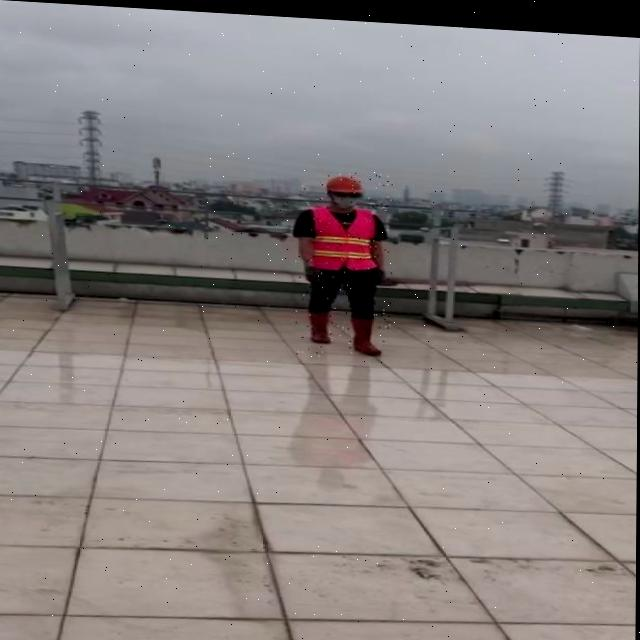Gloves: (304, 260, 324, 281), (374, 263, 385, 280)
Helmet: (325, 169, 364, 190)
No-Glove: (292, 165, 390, 351)
Safety-Boot: (351, 312, 382, 351), (308, 305, 332, 339)
Safety-Vest: (305, 200, 379, 268)
